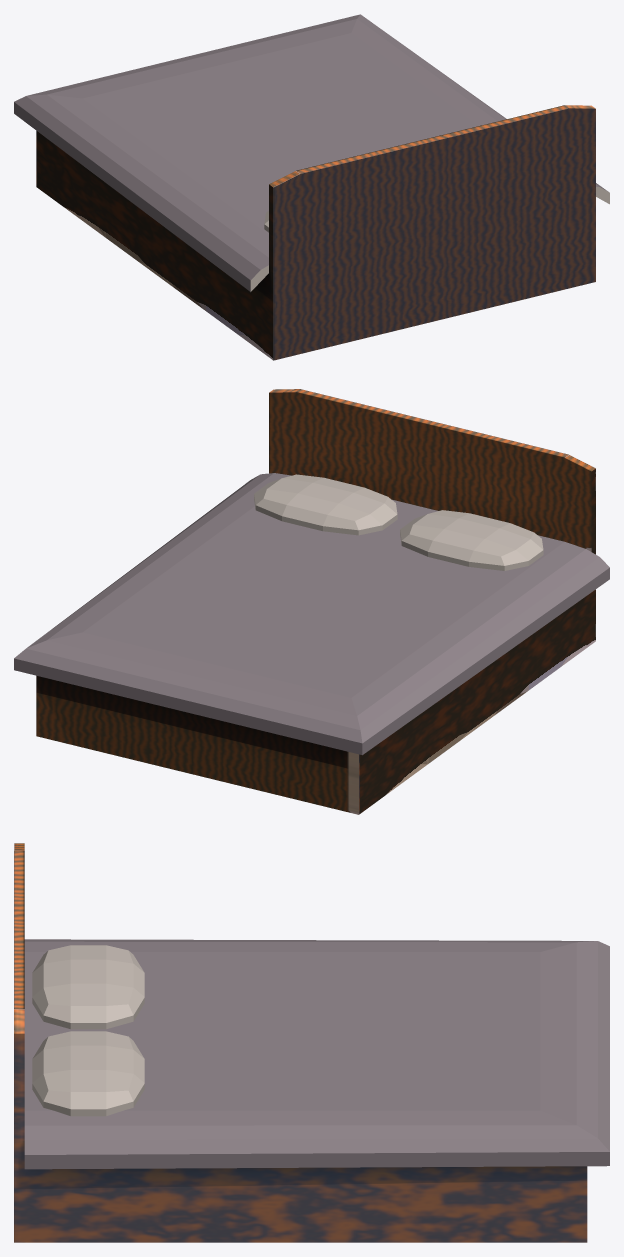
The model's file is Bed.fbx.
The picture shows the model from 3 angles, top to bottom: view 1: azimuth 30°, elevation 25°; view 2: azimuth 150°, elevation 25°; view 3: azimuth 270°, elevation 25°; orthographic projection. The views are drawn at different scales.
Visible parts, largest first — view 1: Cube; view 2: Cube; view 3: Cube.
Part boxes in pixels (<box>): Cube: <box>14,14,609,360</box>; Cube: <box>14,389,609,814</box>; Cube: <box>14,843,609,1242</box>.
Bounding box in the file's own units: 891 × 427 × 1059.
3 materials, 1 textured.
